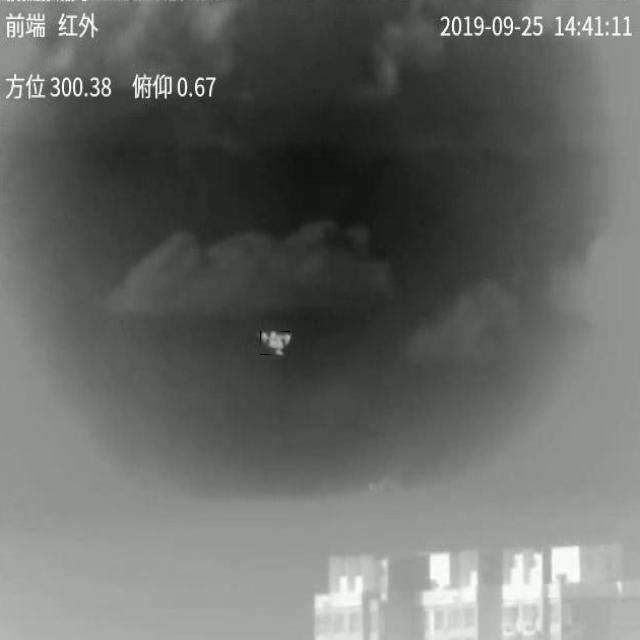drone: (261, 332, 290, 355)
